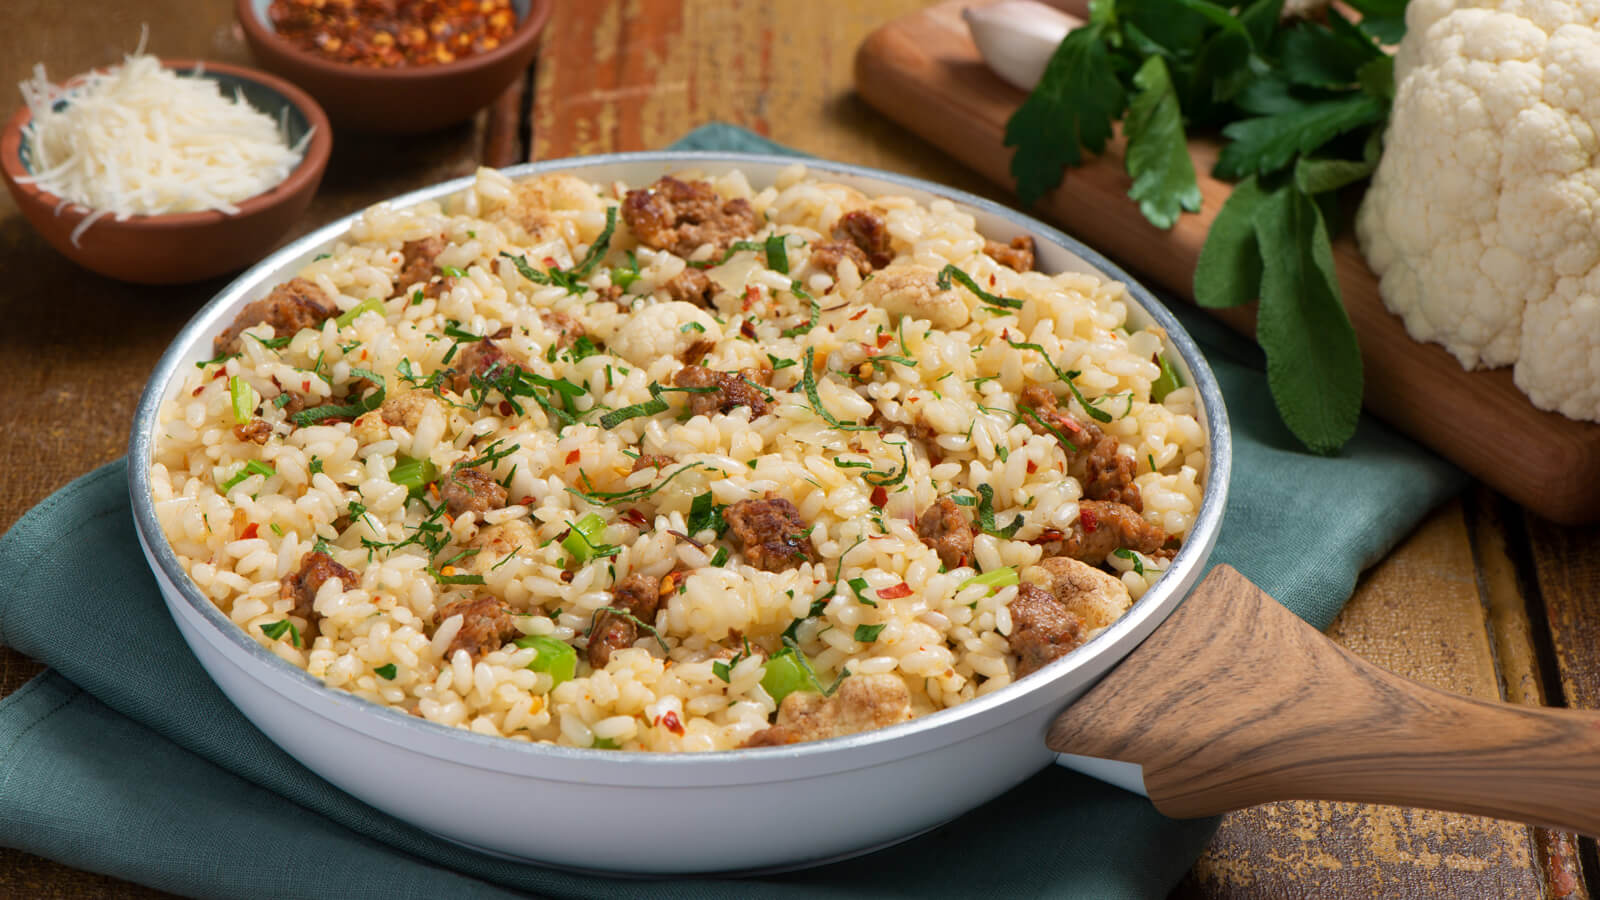risotto: (38, 60, 1398, 877)
